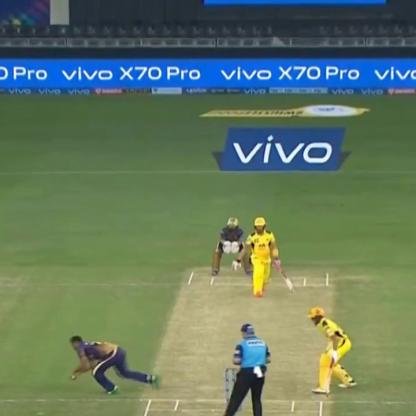ball: (67, 372, 78, 384)
pitch: (139, 266, 334, 416)
